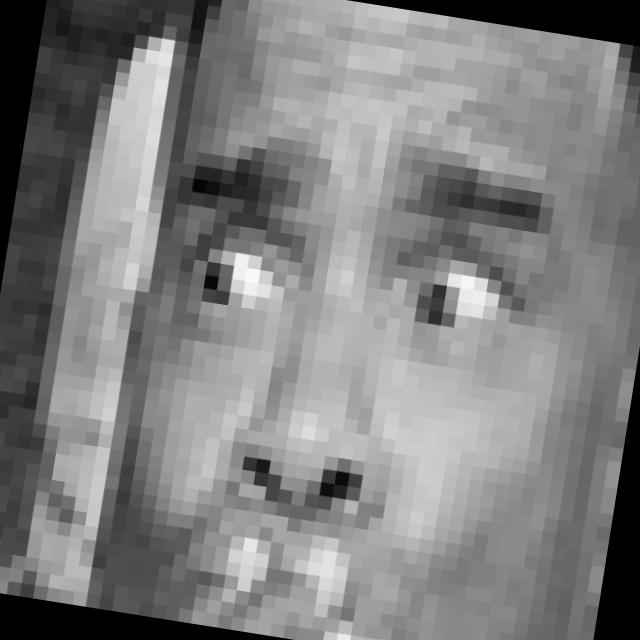fear: (101, 92, 570, 640)
